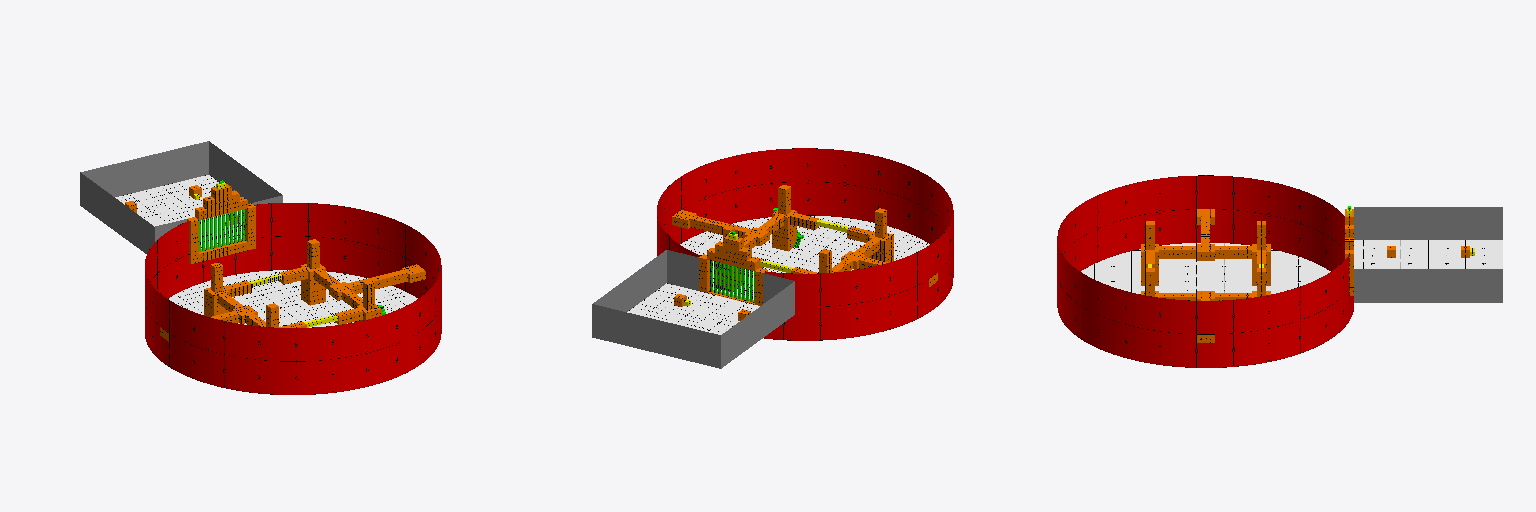
3 renders of one model, left to right at view 1: azimuth 30°, elevation 25°; view 2: azimuth 150°, elevation 25°; view 3: azimuth 270°, elevation 25°, orthographic.
Visible parts, largest first — view 1: arena_b; view 2: arena_b; view 3: arena_b.
Part boxes in pixels (left/top/right/bottom): arena_b: left=80, top=141, right=441, bottom=394; arena_b: left=592, top=148, right=953, bottom=368; arena_b: left=1057, top=175, right=1502, bottom=367.
Size of the model in its own units: 64 by 23.5 by 96.
6 materials, 5 textured.